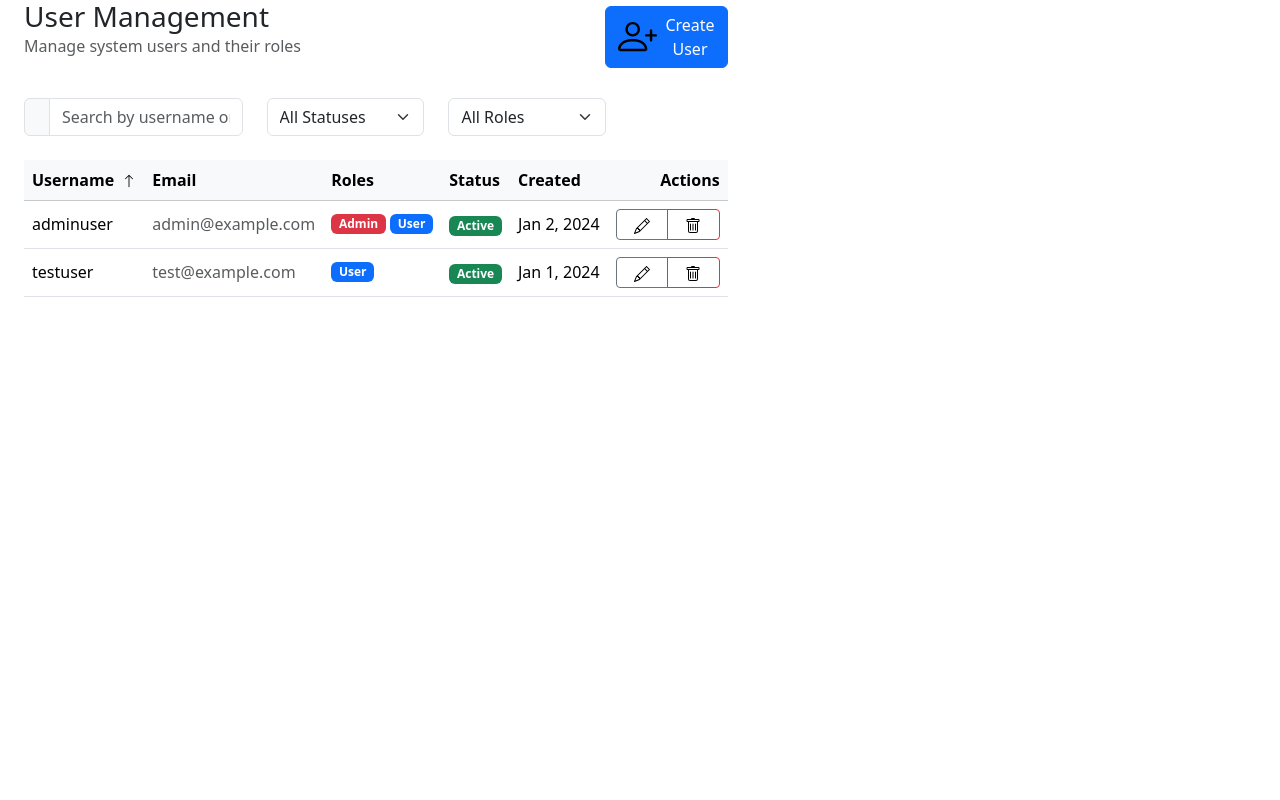
UserManagementPage Integration Tests › Create User Flow › should open create user modal when clicking create button
The image size is (1280, 800).
Expected: the text "testuser" is shown, [32, 261, 93, 283]
What coordinates should you click on to do the following:
click the button "Create User"
I would click on:
 (666, 37)
Its box is [605, 6, 728, 68].
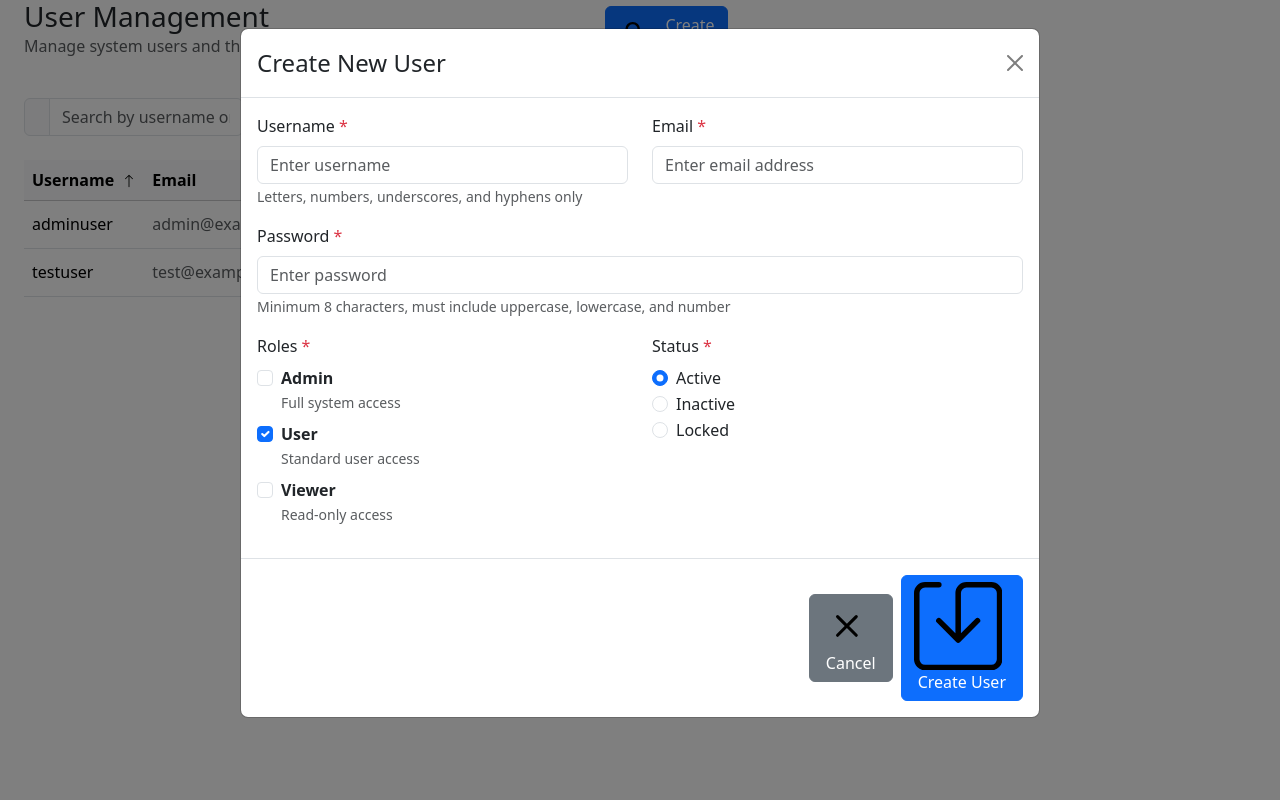
Now the text "Create New User" is shown, box [257, 45, 446, 81]
